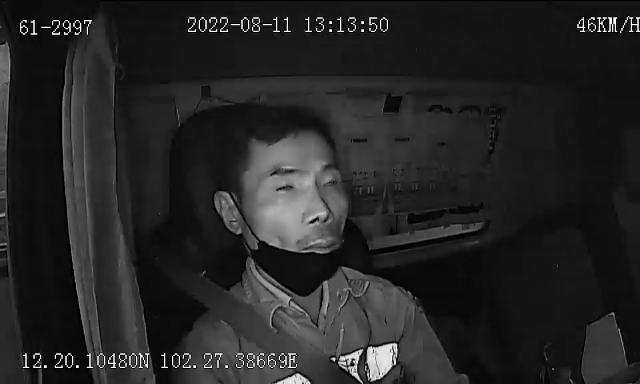SafeDriving: (418, 95, 476, 124), (418, 94, 459, 122), (269, 174, 304, 199), (316, 168, 346, 194)
Seatbelt: (188, 274, 362, 384)
